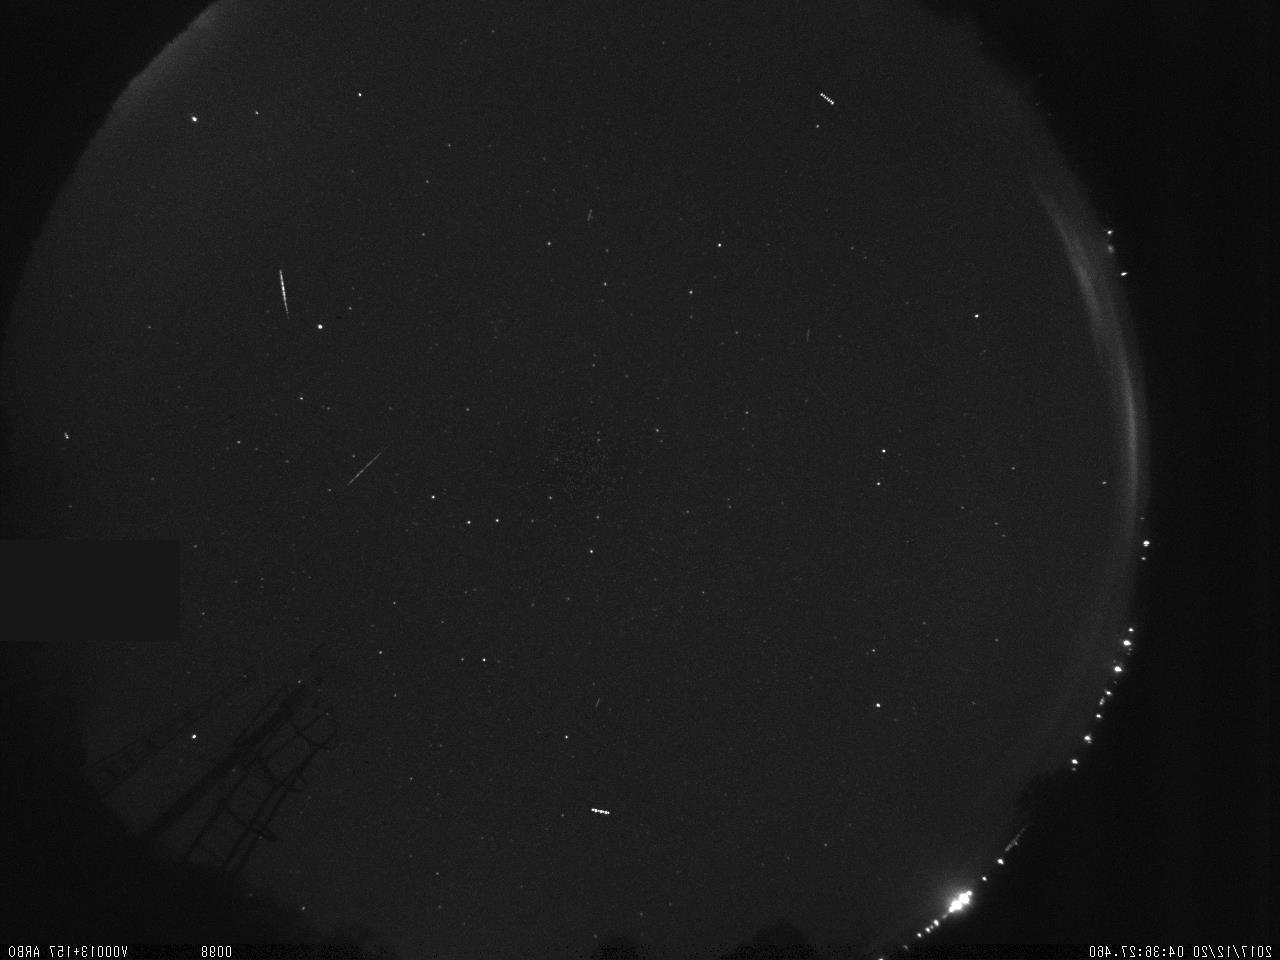meteor: (327, 441, 396, 499)
